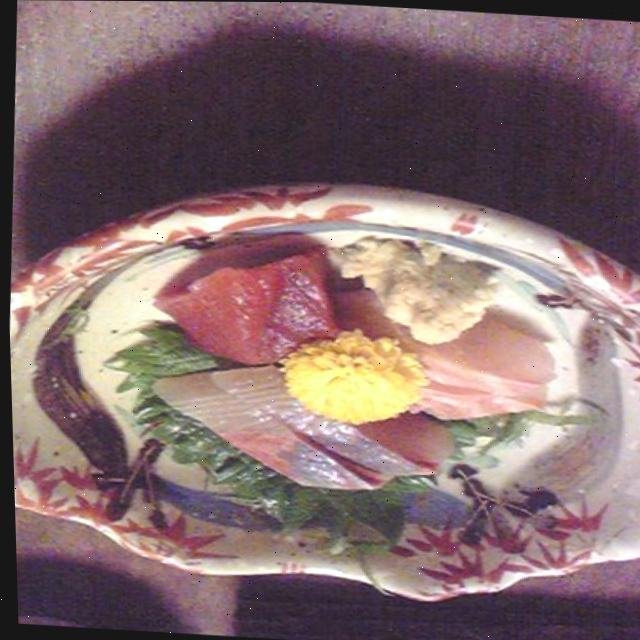刺身生食: (121, 241, 559, 512)
